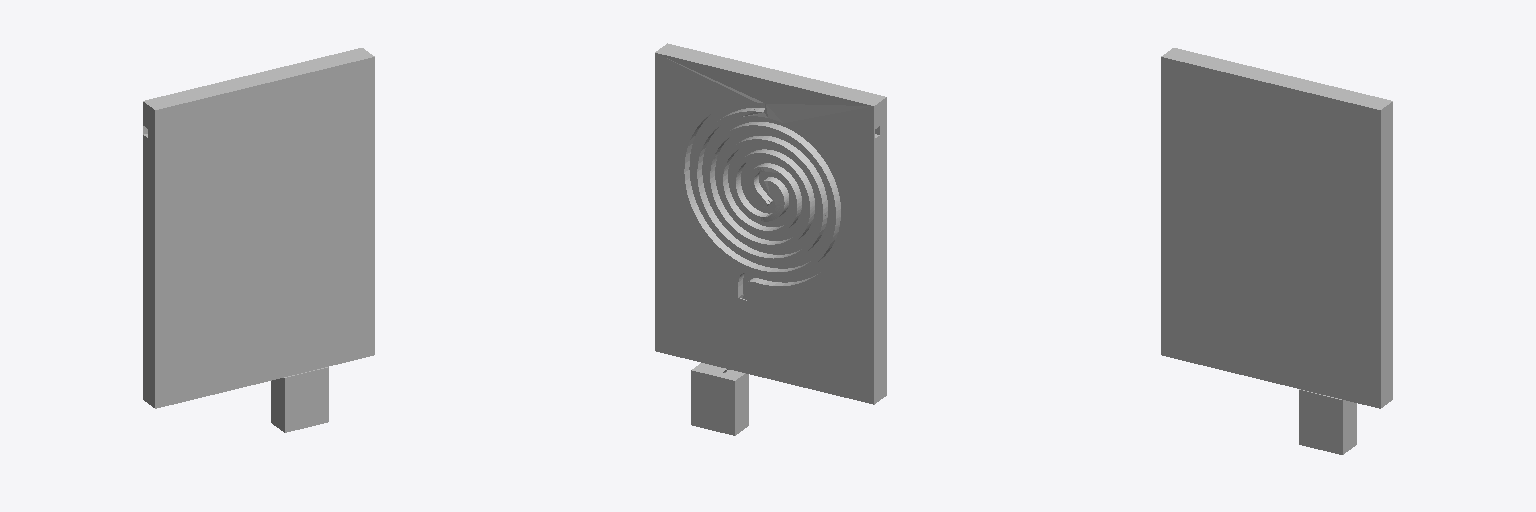
File: Spiral Test Chamber.obj
3 renders of one model, left to right at view 1: azimuth 30°, elevation 25°; view 2: azimuth 150°, elevation 25°; view 3: azimuth 330°, elevation 25°, orthographic.
Parts seen in each view (by area): view 1: mesh62, mesh61, mesh64, mesh0, mesh1; view 2: mesh60, mesh61, mesh44, mesh48, mesh64, mesh2, mesh45, mesh47, mesh43, mesh41, mesh1; view 3: mesh62, mesh63, mesh64, mesh0, mesh3.
Boxes of the visible parts, x1=… form: mesh62: x1=155, y1=57, x2=374, y2=408; mesh61: x1=143, y1=102, x2=154, y2=407; mesh64: x1=143, y1=48, x2=374, y2=109; mesh0: x1=285, y1=367, x2=328, y2=432; mesh1: x1=271, y1=378, x2=284, y2=432; mesh60: x1=655, y1=53, x2=873, y2=404; mesh61: x1=874, y1=97, x2=886, y2=404; mesh44: x1=689, y1=102, x2=831, y2=268; mesh48: x1=702, y1=116, x2=844, y2=282; mesh64: x1=655, y1=43, x2=885, y2=105; mesh2: x1=691, y1=370, x2=734, y2=435; mesh45: x1=684, y1=114, x2=810, y2=271; mesh47: x1=730, y1=122, x2=840, y2=262; mesh43: x1=697, y1=125, x2=820, y2=285; mesh41: x1=717, y1=108, x2=827, y2=251; mesh1: x1=735, y1=373, x2=748, y2=435; mesh62: x1=1161, y1=57, x2=1380, y2=408; mesh63: x1=1381, y1=102, x2=1392, y2=407; mesh64: x1=1161, y1=48, x2=1392, y2=109; mesh0: x1=1299, y1=390, x2=1342, y2=454; mesh3: x1=1343, y1=400, x2=1356, y2=454.
Size of the model in its own units: 0.005 by 0.0078 by 0.0007.